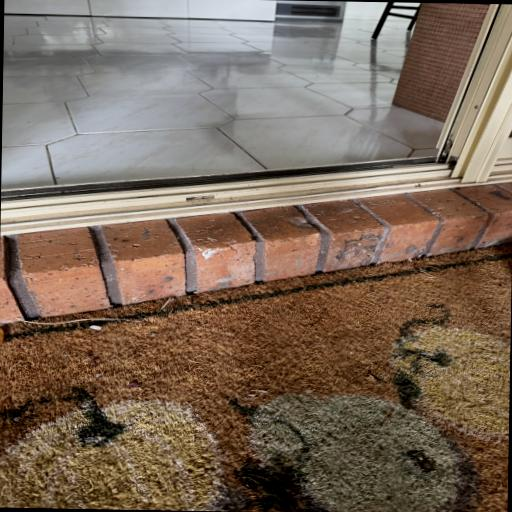step: (0, 165, 512, 323)
